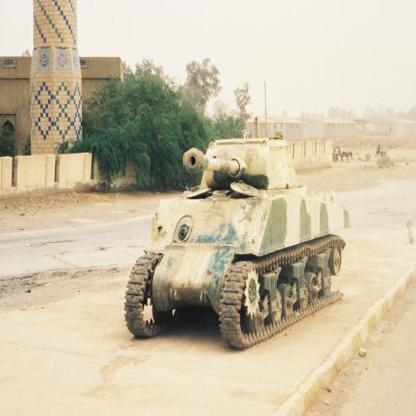Tank: (124, 132, 354, 349)
